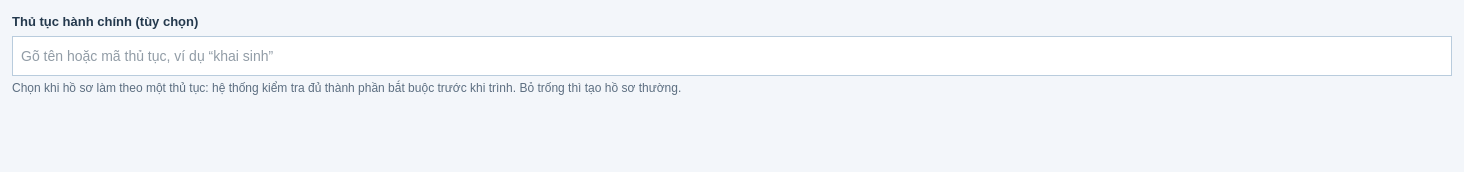
Scenario: ProcedurePicker › gõ liền tay chỉ gọi API một lần sau khi ngừng gõ, rồi hiện kết quả kèm lĩnh vực và số thành phần
In the dropdown: (732, 56) [12,36,1452,76], type "khai sinh"
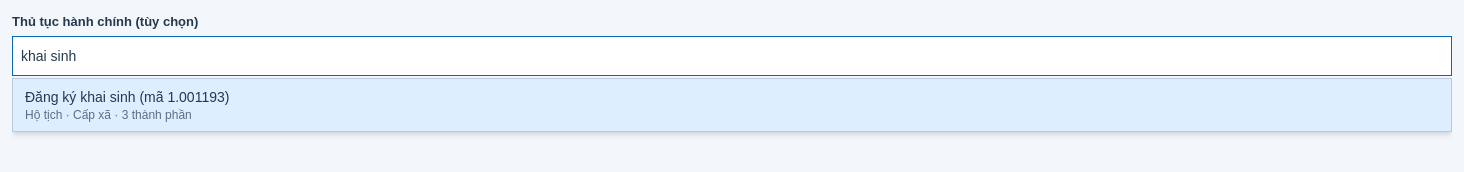
Result: the option "Đăng ký khai sinh" shows "mã 1.001193" at [13,79,1451,131]
Result: the option "Đăng ký khai sinh" shows "Hộ tịch · Cấp xã · 3 thành phần" at [13,79,1451,131]
